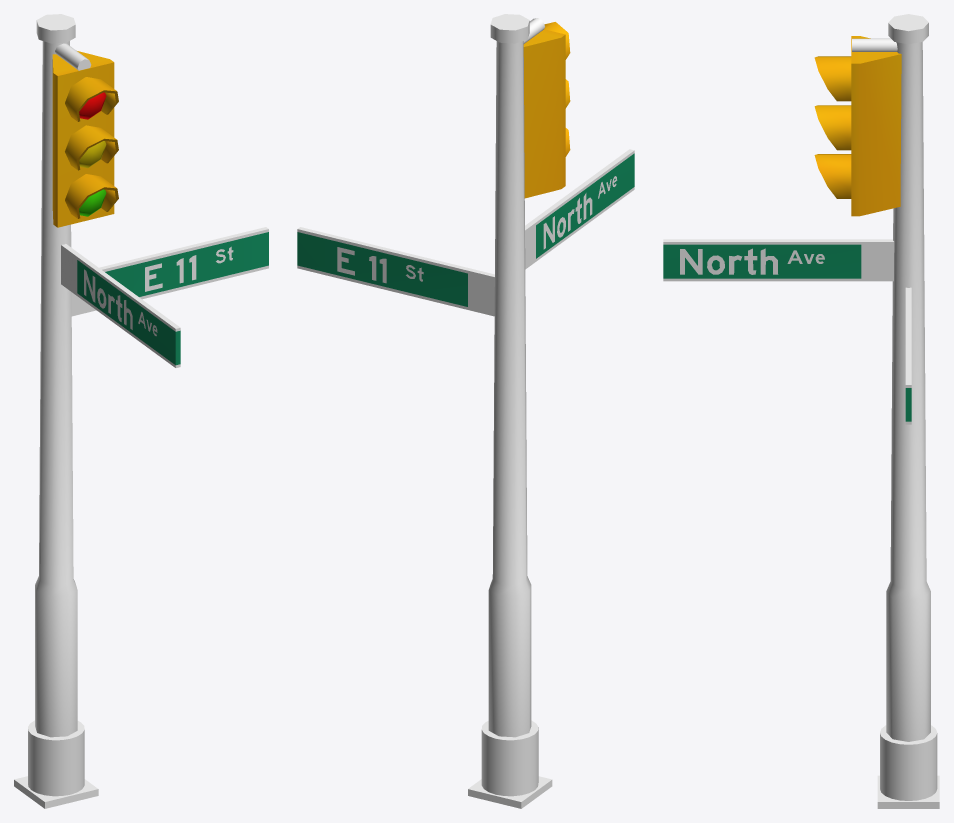
The model's file is TrafficLight_1.glb.
The picture shows the model from 3 angles, left to right: view 1: azimuth 30°, elevation 25°; view 2: azimuth 150°, elevation 25°; view 3: azimuth 270°, elevation 25°; orthographic projection.
Visible parts, largest first — view 1: TrafficLight_1; view 2: TrafficLight_1; view 3: TrafficLight_1.
Boxes of the visible parts, x1,y1,x2,y2 form: TrafficLight_1: [14, 14, 268, 808]; TrafficLight_1: [297, 14, 634, 808]; TrafficLight_1: [663, 14, 939, 808].
Size of the model in its own units: 1.51 by 4.66 by 1.51.
